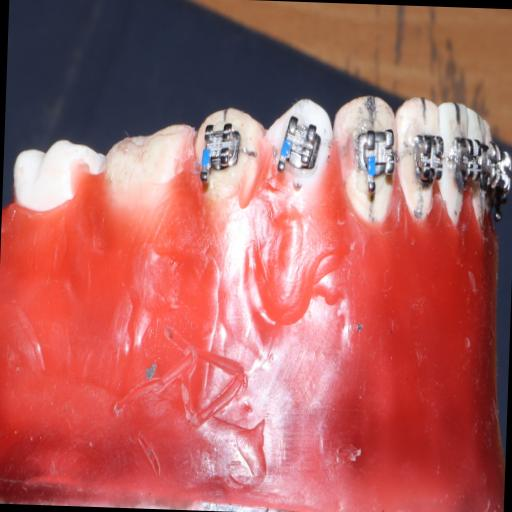correct_brace: (262, 89, 332, 202)
incorrect_brace: (274, 113, 320, 166)
